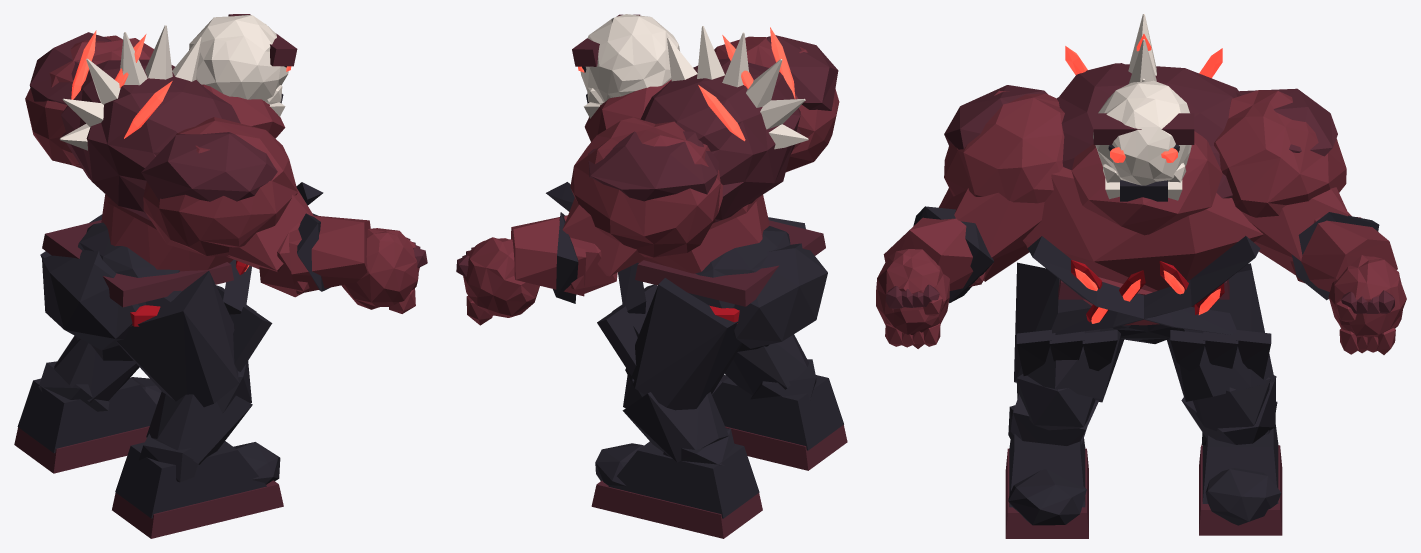
The model's file is inf.mega-alpha.lod1.glb.
The picture shows the model from 3 angles, left to right: view 1: azimuth 30°, elevation 25°; view 2: azimuth 150°, elevation 25°; view 3: azimuth 270°, elevation 25°; orthographic projection. The views are drawn at different scales.
Parts seen in each view (by area): view 1: torso, armR, footR, hip, footL, legR, head, foreArmR, armL, shinR, handR, shinL (+1 smaller); view 2: torso, armL, footL, hip, legL, footR, head, armR, foreArmL, handL, shinL, shinR; view 3: torso, armL, armR, head, footR, footL, legR, handR, handL, foreArmL, foreArmR, legL (+3 smaller).
Boxes of the visible parts, x1,y1,x2,y2 form: torso: [59, 25, 323, 371]; armR: [141, 117, 313, 271]; footR: [112, 433, 283, 538]; hip: [42, 220, 233, 350]; footL: [14, 361, 161, 473]; legR: [116, 271, 239, 407]; head: [189, 14, 297, 116]; foreArmR: [259, 213, 370, 297]; armL: [25, 32, 153, 168]; shinR: [146, 361, 252, 464]; handR: [341, 228, 427, 313]; shinL: [54, 335, 139, 402]; torso: [546, 26, 808, 375]; armL: [562, 117, 722, 276]; footL: [591, 428, 762, 538]; hip: [635, 220, 827, 348]; legL: [625, 278, 742, 410]; footR: [712, 359, 847, 470]; head: [572, 14, 679, 118]; armR: [714, 35, 839, 172]; foreArmL: [511, 212, 617, 303]; handL: [456, 237, 539, 325]; shinL: [622, 375, 728, 463]; shinR: [724, 334, 808, 395]; torso: [1016, 14, 1271, 379]; armL: [1214, 88, 1348, 274]; armR: [939, 85, 1064, 281]; head: [1093, 80, 1194, 201]; footR: [1005, 405, 1088, 538]; footL: [1199, 401, 1282, 535]; legR: [1014, 262, 1124, 402]; handR: [876, 249, 949, 348]; handL: [1328, 255, 1406, 354]; foreArmL: [1290, 212, 1397, 300]; foreArmR: [883, 206, 993, 303]; legL: [1167, 263, 1274, 401].
Bounding box in the file's own units: 1.52 × 2.59 × 2.62.
